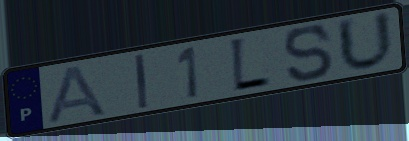1: (175, 44, 202, 101)
A: (45, 62, 110, 125)
I: (132, 52, 151, 111)
L: (227, 35, 273, 96)
S: (281, 23, 336, 84)
U: (333, 8, 398, 74)
